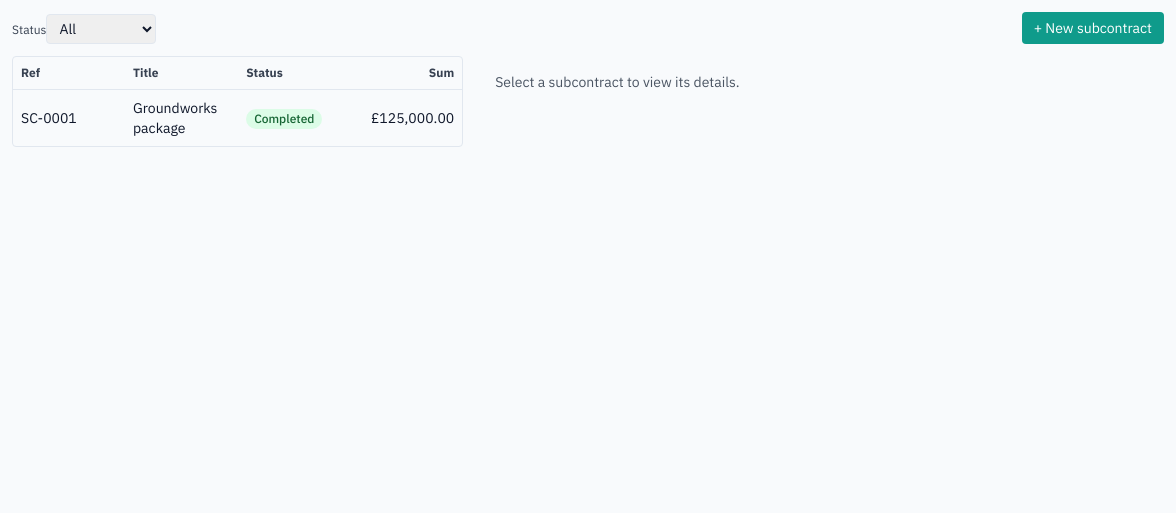
button visibility — perms × status › Completed status → terminal line, no action buttons
Click the row with test id "subcontracts-row-s-1": click(49, 118) [13,90,462,146]
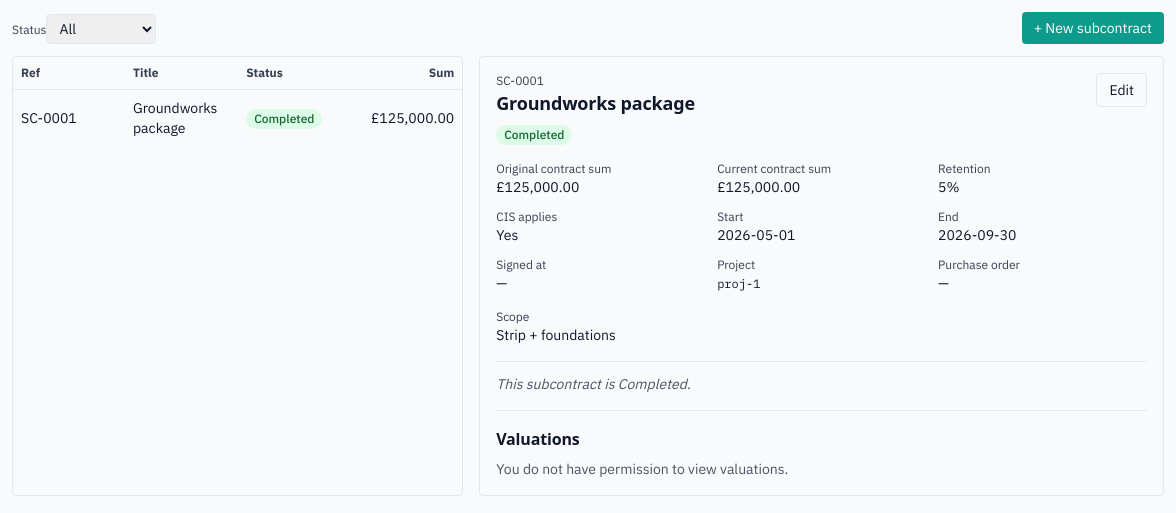
Expected: the text "This subcontract is Completed." is shown, [496,375,691,393]
